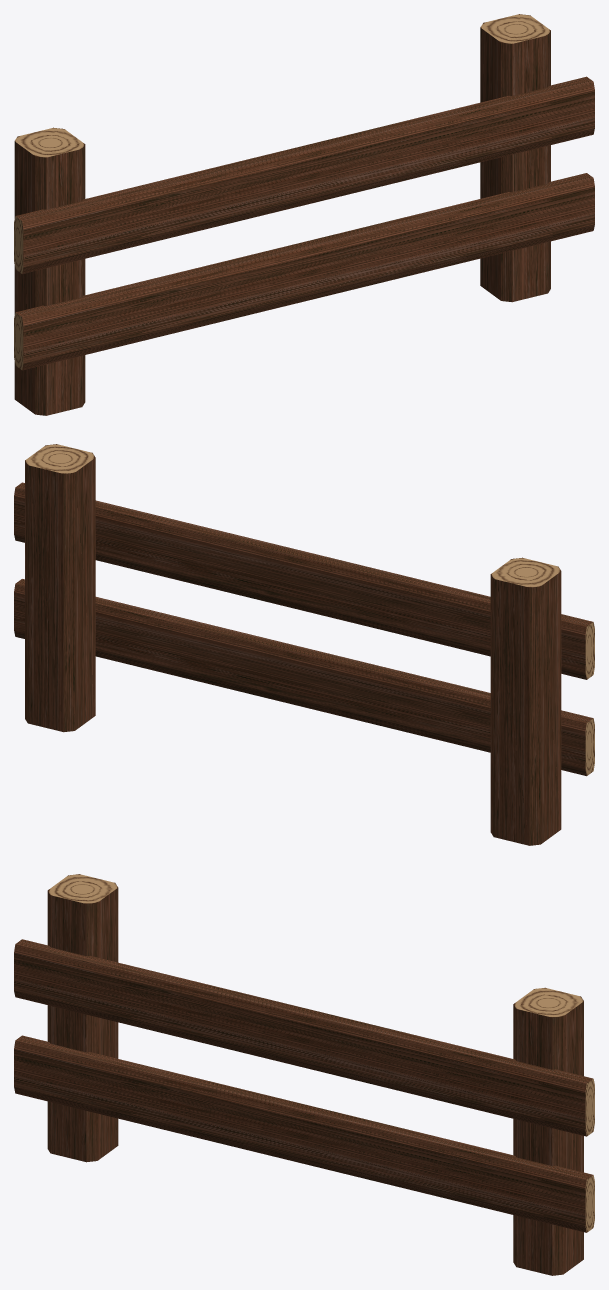
File: fence1.fbx
3 renders of one model, top to bottom at view 1: azimuth 30°, elevation 25°; view 2: azimuth 150°, elevation 25°; view 3: azimuth 330°, elevation 25°, orthographic.
Visible parts, largest first — view 1: Cube.003; view 2: Cube.003; view 3: Cube.003.
Boxes of the visible parts, x1,y1,x2,y2 form: Cube.003: (14, 14, 594, 415); Cube.003: (14, 444, 594, 845); Cube.003: (14, 874, 594, 1275).
Bounding box in the file's own units: 136 × 58.88 × 14.74.
